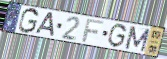2: (60, 16, 81, 42)
A: (34, 11, 55, 38)
F: (81, 18, 105, 43)
G: (17, 7, 40, 35), (107, 23, 128, 49)
M: (123, 25, 152, 53)
